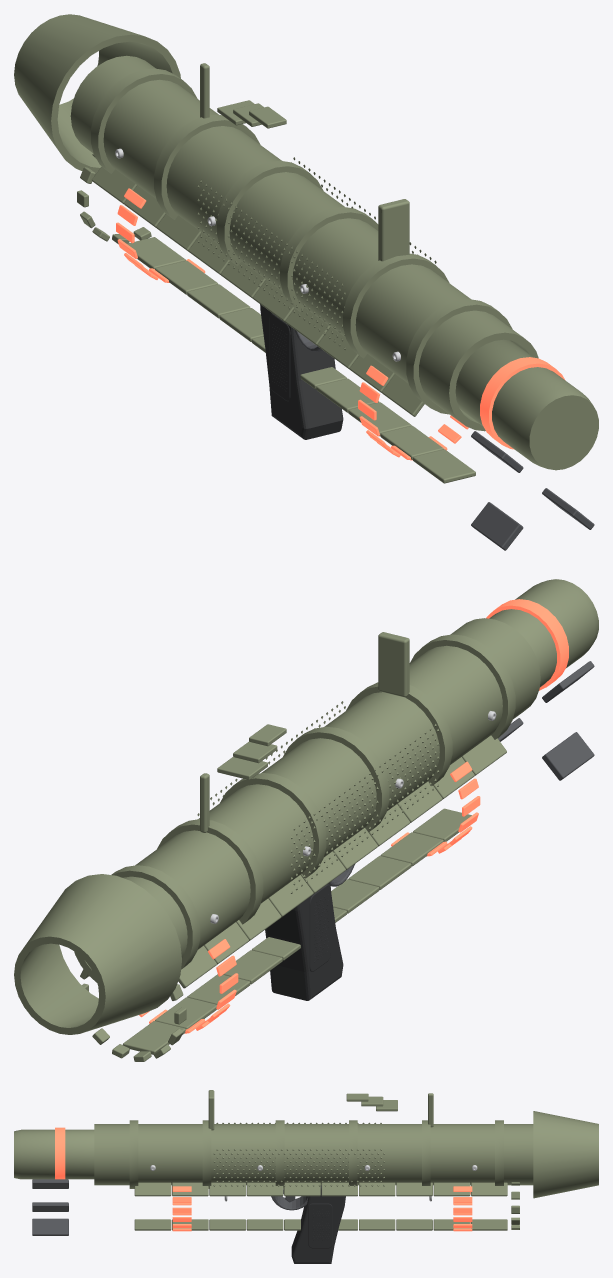
File: mega-weapon-pack-compact-at-tube-a1a94277__33351.glb
3 renders of one model, top to bottom at view 1: azimuth 30°, elevation 25°; view 2: azimuth 150°, elevation 25°; view 3: azimuth 270°, elevation 25°, orthographic. The views are drawn at different scales.
Parts seen in each view (by area): view 1: compact-at-tube; view 2: compact-at-tube; view 3: compact-at-tube.
Boxes of the visible parts, <box> form: compact-at-tube: <box>14,14,598,550</box>; compact-at-tube: <box>14,579,598,1061</box>; compact-at-tube: <box>14,1090,598,1263</box>.
Size of the model in its own units: 0.12 by 0.2495 by 0.8.
